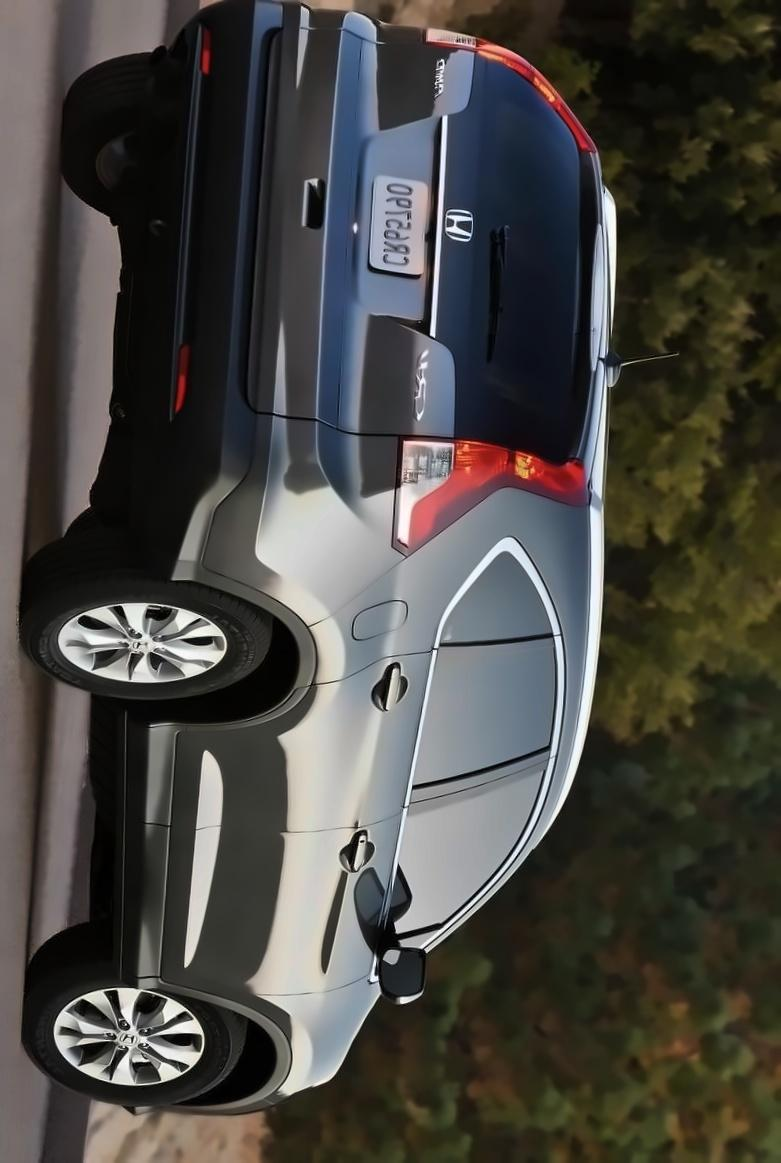Car boot: (245, 4, 687, 461)
Driver-s door - -F-R-: (66, 742, 590, 1004)
Fender - -F-R-: (152, 932, 390, 1106)
Fender - -R-R-: (193, 392, 571, 782)
Passenger-s door - -R-R-: (85, 624, 601, 845)
Rear bumper: (96, 0, 310, 571)
Rear light - -L-: (422, 16, 594, 174)
Rear light - -R-: (380, 432, 598, 557)
Side bumper - -R-: (88, 694, 235, 1004)
Side mirror - -R-: (368, 932, 436, 1033)
